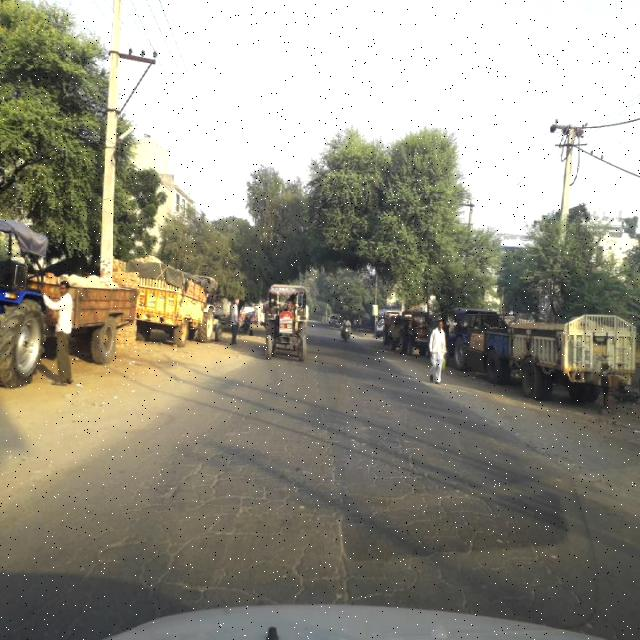D20: (128, 417, 595, 617)
